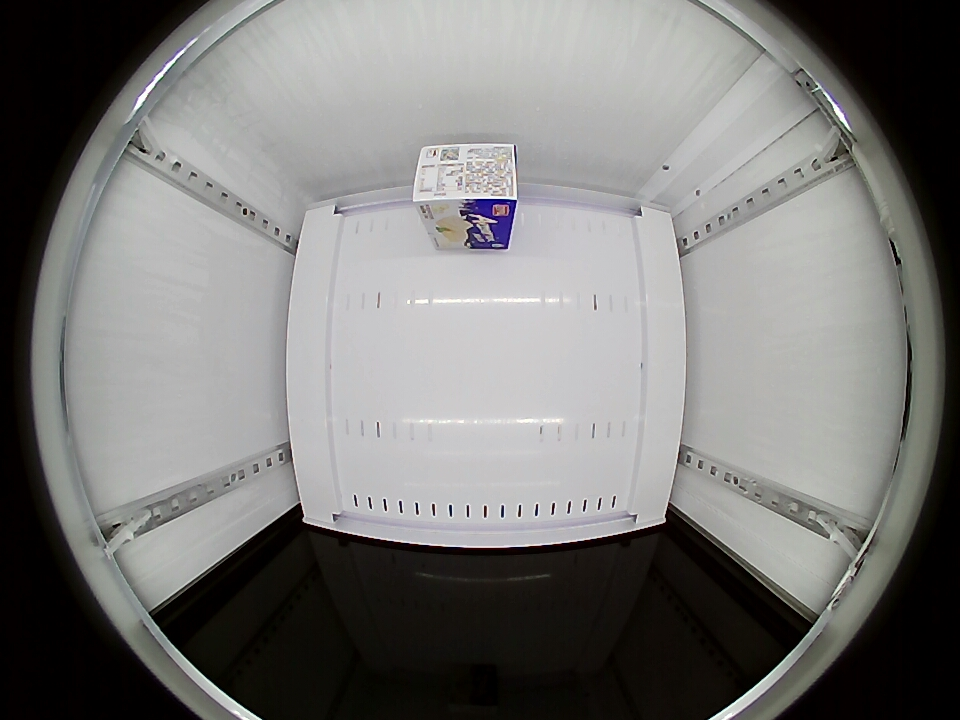meiniye: (413, 143, 518, 219)
